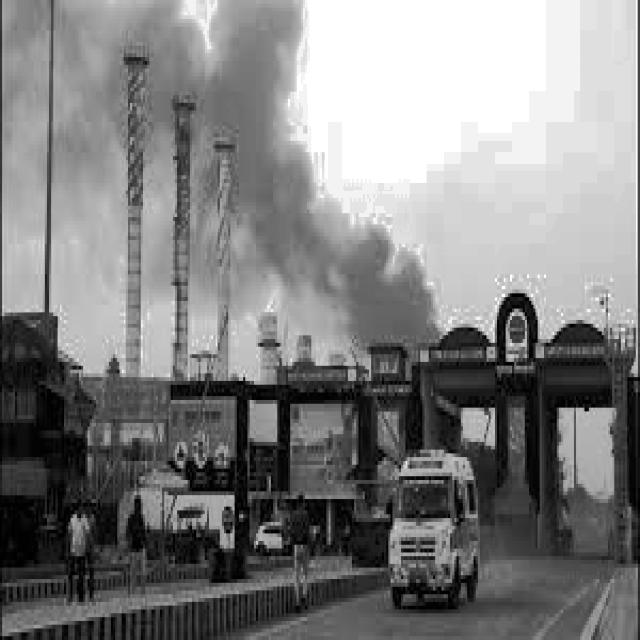Ambulance: (387, 438, 483, 617)
